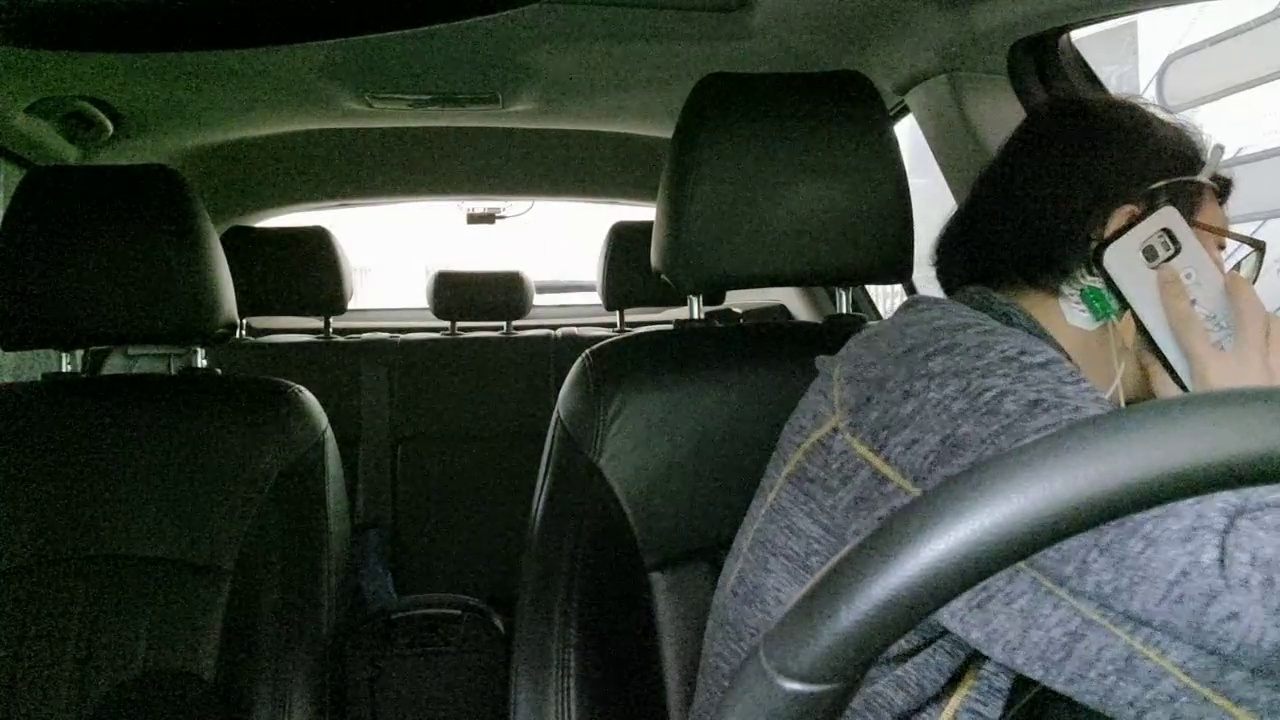phone: (1047, 180, 1271, 428)
